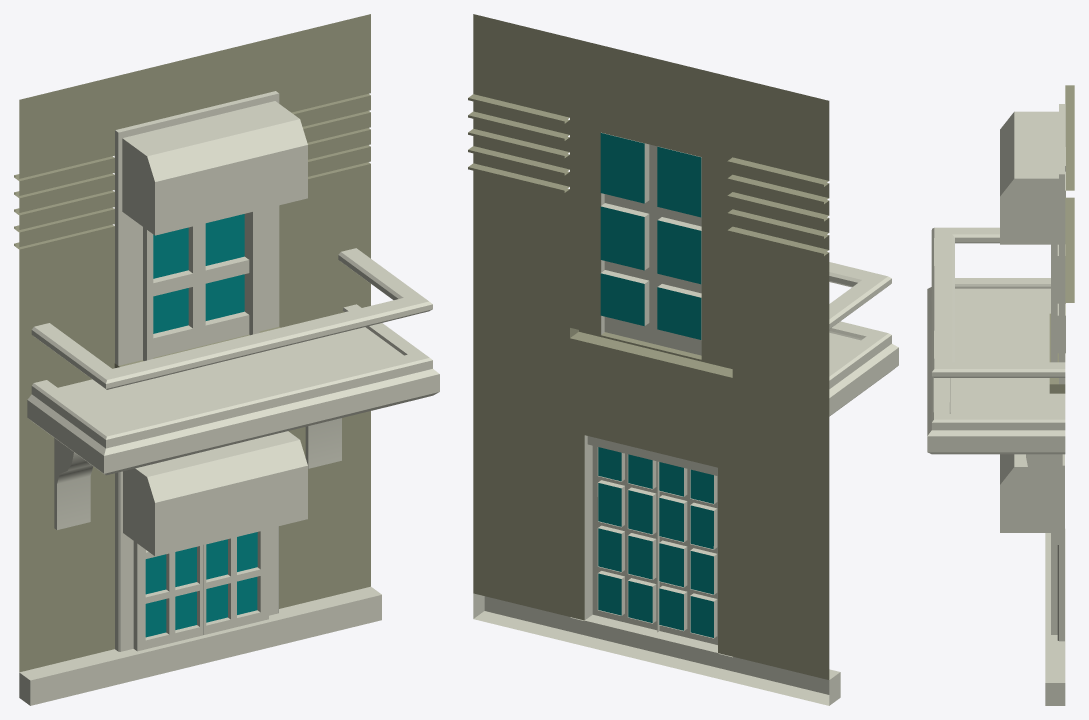
3 views of the same model, side by side, from view 1: azimuth 30°, elevation 25°; view 2: azimuth 150°, elevation 25°; view 3: azimuth 270°, elevation 25° (orthographic). The views are drawn at different scales.
Parts seen in each view (by area): view 1: BuildingFront01:polySurface66polySurface64polySurface62polyS (×5), BuildingFront01:polySurface73polySurface69polySurface66polyS, BuildingFront01:pCube14, BuildingFront01:pCube15, BuildingFront01:polySurface72, BuildingFront01:polySurface69polySurface66polySurface64polyS, BuildingFront01:pCube13polySurface45polySurface44, BuildingFront01:polySurface60, BuildingFront01:polySurface65, BuildingFront01:polySurface64polySurface62polySurface43pCube; view 2: BuildingFront01:polySurface66polySurface64polySurface62polyS (×3), BuildingFront01:polySurface60, BuildingFront01:polySurface72, BuildingFront01:pCube13polySurface45polySurface44, BuildingFront01:polySurface73polySurface69polySurface66polyS, BuildingFront01:polySurface69polySurface66polySurface64polyS, BuildingFront01:pCube15; view 3: BuildingFront01:polySurface73polySurface69polySurface66polyS, BuildingFront01:pCube14, BuildingFront01:polySurface69polySurface66polySurface64polyS, BuildingFront01:polySurface66polySurface64polySurface62polyS (×5), BuildingFront01:pCube15, BuildingFront01:polySurface72, BuildingFront01:polySurface65, BuildingFront01:polySurface64polySurface62polySurface43pCube, BuildingFront01:pCube13polySurface45polySurface44.
Part boxes in pixels (x1,y1,x2,y2): BuildingFront01:polySurface66polySurface64polySurface62polyS (×5): [14, 14, 370, 672]; BuildingFront01:polySurface73polySurface69polySurface66polyS: [27, 304, 439, 475]; BuildingFront01:pCube14: [122, 101, 307, 235]; BuildingFront01:pCube15: [123, 431, 307, 556]; BuildingFront01:polySurface72: [19, 586, 381, 705]; BuildingFront01:polySurface69polySurface66polySurface64polyS: [31, 248, 432, 389]; BuildingFront01:pCube13polySurface45polySurface44: [133, 528, 268, 651]; BuildingFront01:polySurface60: [145, 532, 257, 637]; BuildingFront01:polySurface65: [54, 418, 341, 529]; BuildingFront01:polySurface64polySurface62polySurface43pCube: [115, 471, 278, 651]; BuildingFront01:polySurface66polySurface64polySurface62polyS (×3): [468, 14, 829, 679]; BuildingFront01:polySurface60: [598, 447, 713, 637]; BuildingFront01:polySurface72: [473, 593, 840, 705]; BuildingFront01:pCube13polySurface45polySurface44: [587, 436, 717, 644]; BuildingFront01:polySurface73polySurface69polySurface66polyS: [829, 321, 898, 416]; BuildingFront01:polySurface69polySurface66polySurface64polyS: [829, 262, 891, 328]; BuildingFront01:pCube15: [587, 436, 717, 475]; BuildingFront01:polySurface73polySurface69polySurface66polyS: [927, 278, 1065, 454]; BuildingFront01:pCube14: [1000, 111, 1058, 244]; BuildingFront01:polySurface69polySurface66polySurface64polyS: [931, 227, 1065, 377]; BuildingFront01:polySurface66polySurface64polySurface62polyS (×5): [1049, 85, 1074, 393]; BuildingFront01:pCube15: [1000, 454, 1057, 532]; BuildingFront01:polySurface72: [1045, 529, 1065, 705]; BuildingFront01:polySurface65: [1026, 454, 1062, 544]; BuildingFront01:polySurface64polySurface62polySurface43pCube: [1057, 454, 1064, 641]; BuildingFront01:pCube13polySurface45polySurface44: [1051, 533, 1057, 634].
Size of the model in its own units: 8 by 13 by 3.23.
